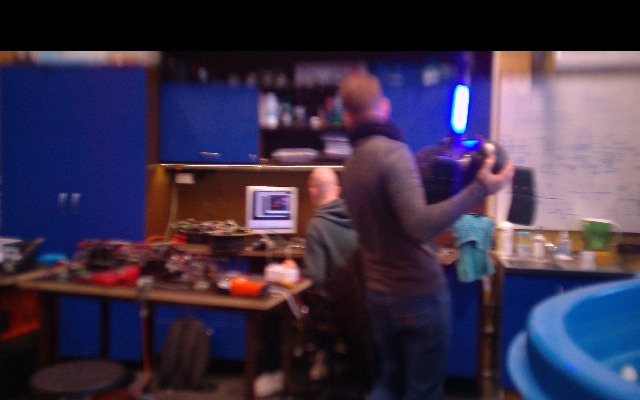blue: (450, 84, 470, 135)
